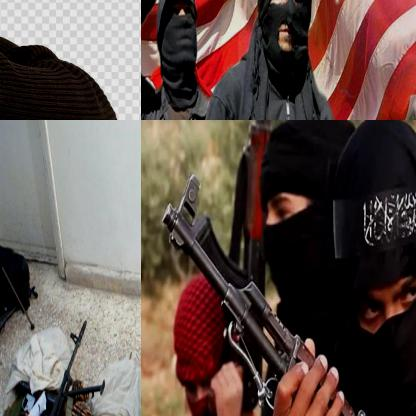rifle: (158, 170, 415, 415), (0, 317, 108, 415), (21, 378, 136, 415)
